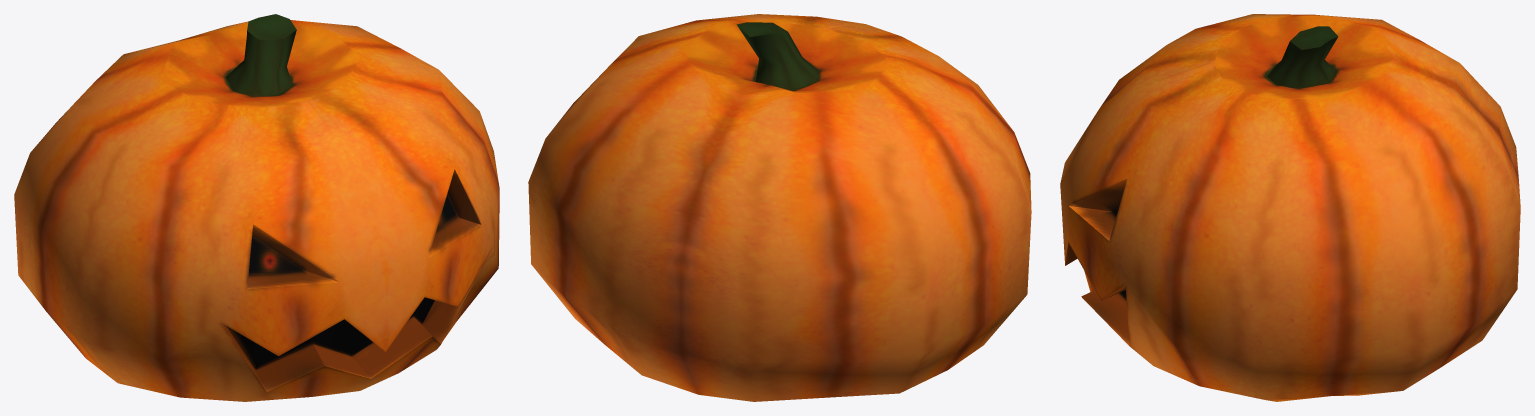
The model's file is pumpkin1.obj.
The picture shows the model from 3 angles, left to right: view 1: azimuth 30°, elevation 25°; view 2: azimuth 150°, elevation 25°; view 3: azimuth 270°, elevation 25°; orthographic projection. The views are drawn at different scales.
Parts seen in each view (by area): view 1: pumpkin1; view 2: pumpkin1; view 3: pumpkin1.
Boxes of the visible parts, x1,y1,x2,y2 form: pumpkin1: (14,14,499,401); pumpkin1: (528,14,1031,401); pumpkin1: (1060,14,1520,401).
Size of the model in its own units: 23.05 by 17.49 by 21.89.
1 material, 1 textured.
